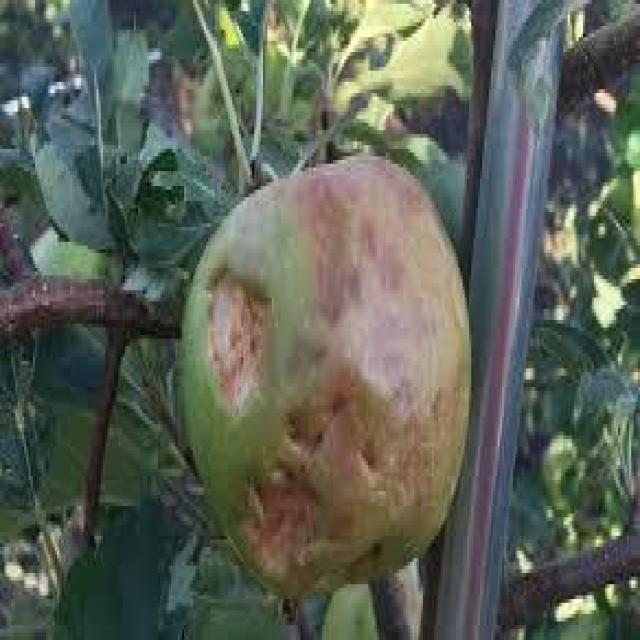maca: (171, 149, 471, 603)
